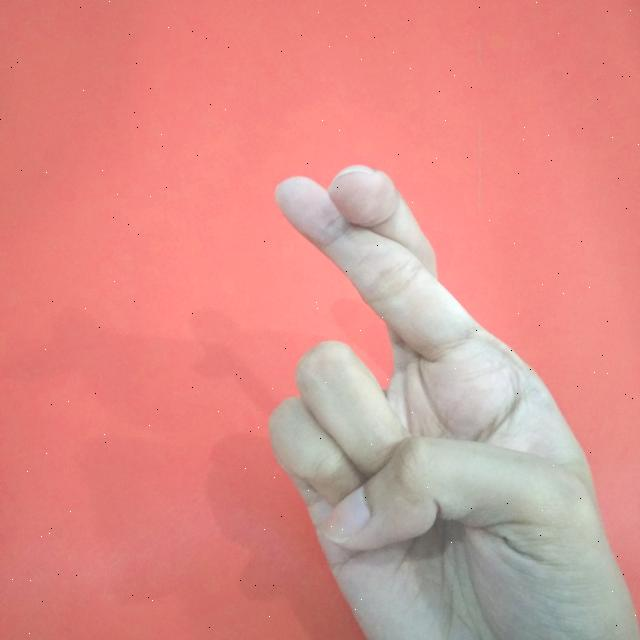R: (267, 160, 640, 640)
